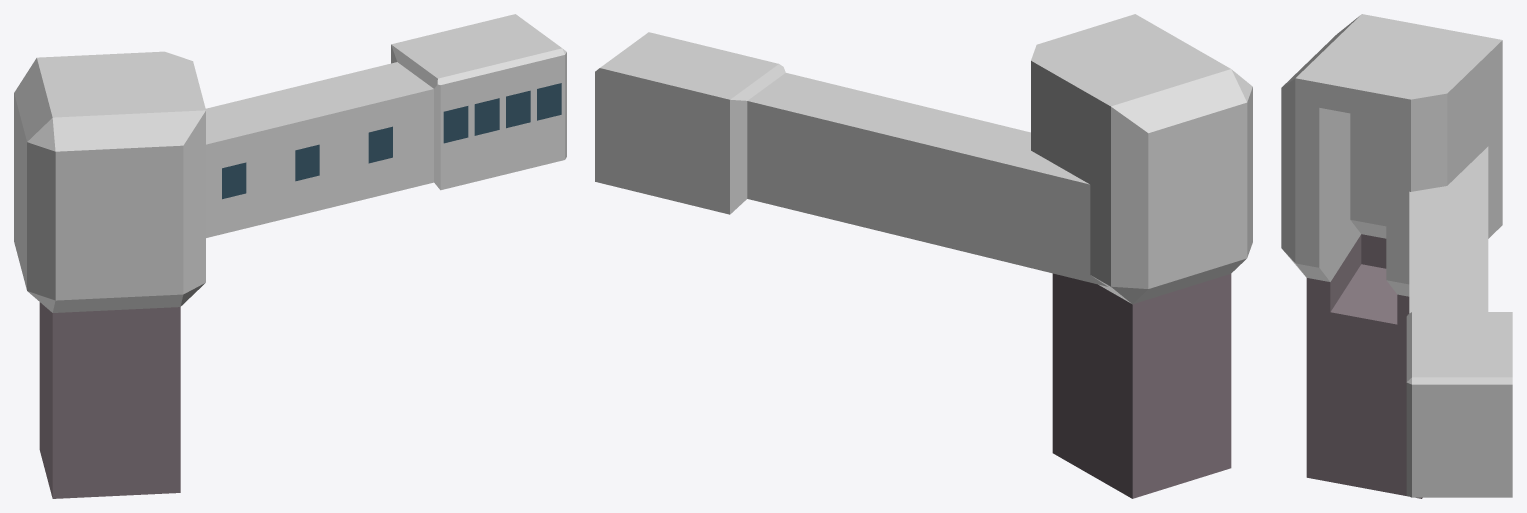
Rendered from PicduMidi_estacion_funiculi-funicula.fbx.
3 views of the same model, side by side, from view 1: azimuth 30°, elevation 25°; view 2: azimuth 150°, elevation 25°; view 3: azimuth 270°, elevation 25° (orthographic). The views are drawn at different scales.
Parts seen in each view (by area): view 1: Estacion_funicular; view 2: Estacion_funicular; view 3: Estacion_funicular.
Part boxes in pixels (left/top/right/bottom): Estacion_funicular: left=14, top=14, right=566, bottom=498; Estacion_funicular: left=595, top=14, right=1252, bottom=498; Estacion_funicular: left=1281, top=14, right=1512, bottom=498.
Size of the model in its own units: 6596 by 4308 by 2205.
